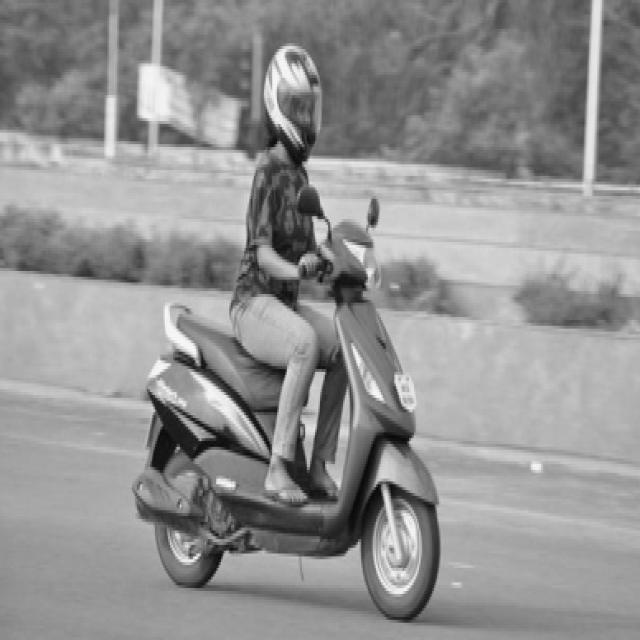Helmet: (262, 32, 327, 176)
